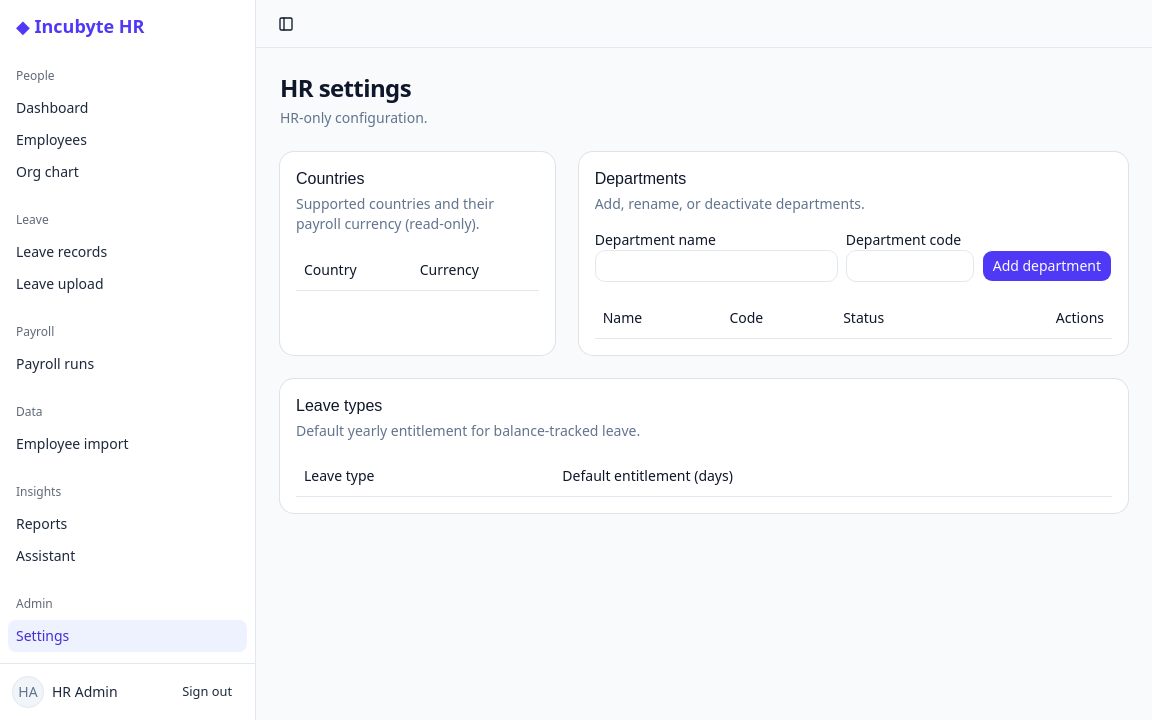
Test: App › creates a department from the settings form
The width and height of the screenshot is (1152, 720).
Expected: the element "Departments" is shown, x1=579 y1=152 x2=1128 y2=354
Type "Engineering" into the field labelled "Department name".
click(716, 266); type("Engineering")  # box x1=595 y1=250 x2=838 y2=282
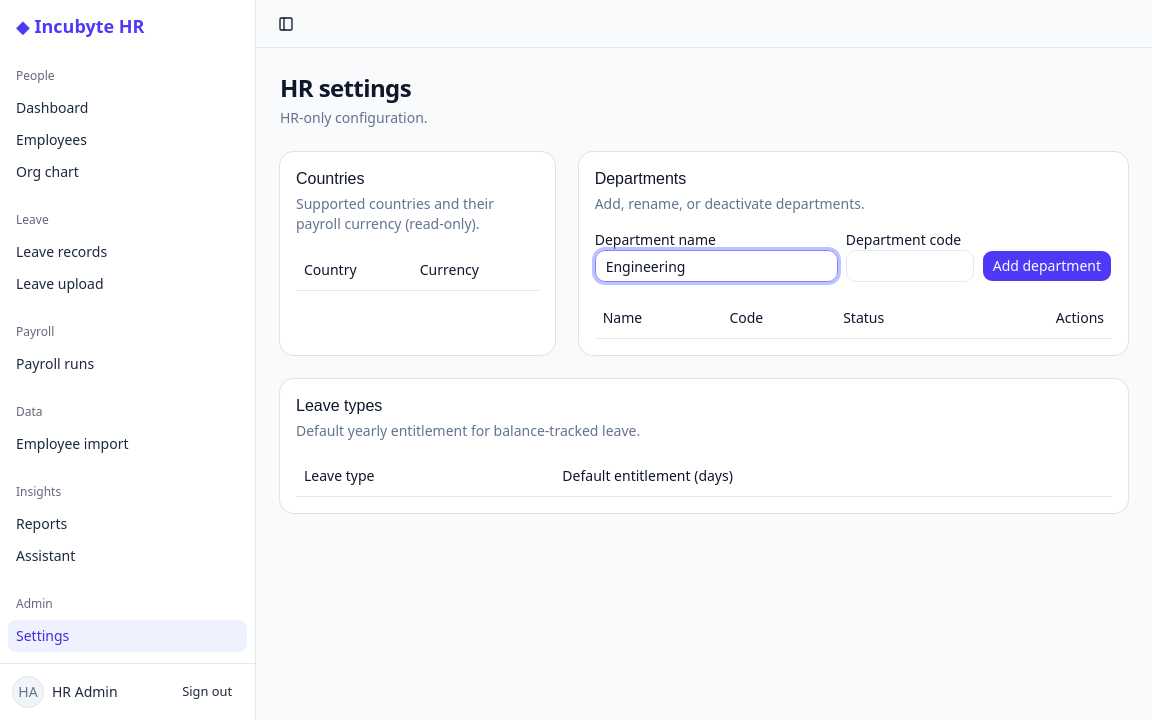
Type "ENG" into the field labelled "Department code".
click(910, 266); type("ENG")  # box x1=846 y1=250 x2=974 y2=282
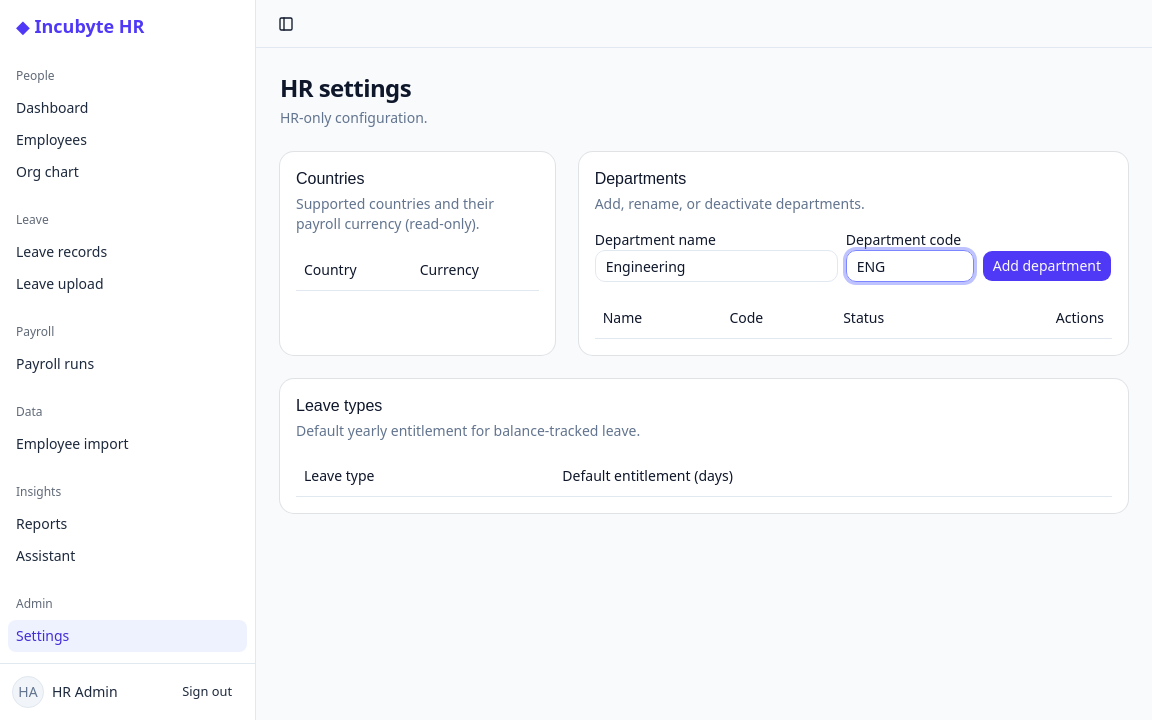
Click the button "Add department".
click(1047, 266)  # box x1=982 y1=250 x2=1112 y2=282
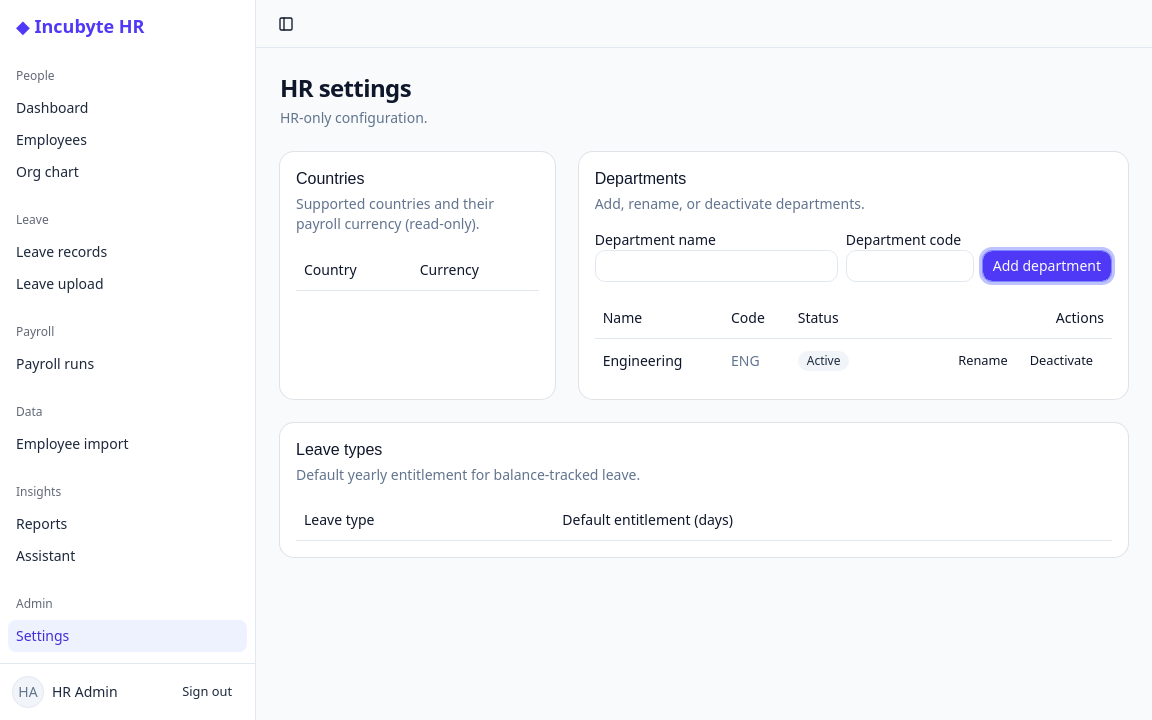
Expected: the text "Engineering" is shown, x1=595 y1=338 x2=723 y2=382
Expected: the cell "ENG" is shown, x1=723 y1=338 x2=790 y2=382
